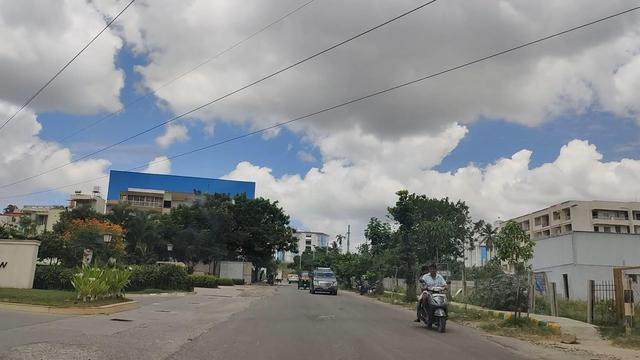RoadDamages: (9, 325, 92, 360), (202, 296, 266, 333), (479, 337, 545, 360), (304, 300, 356, 328), (159, 336, 213, 360)
